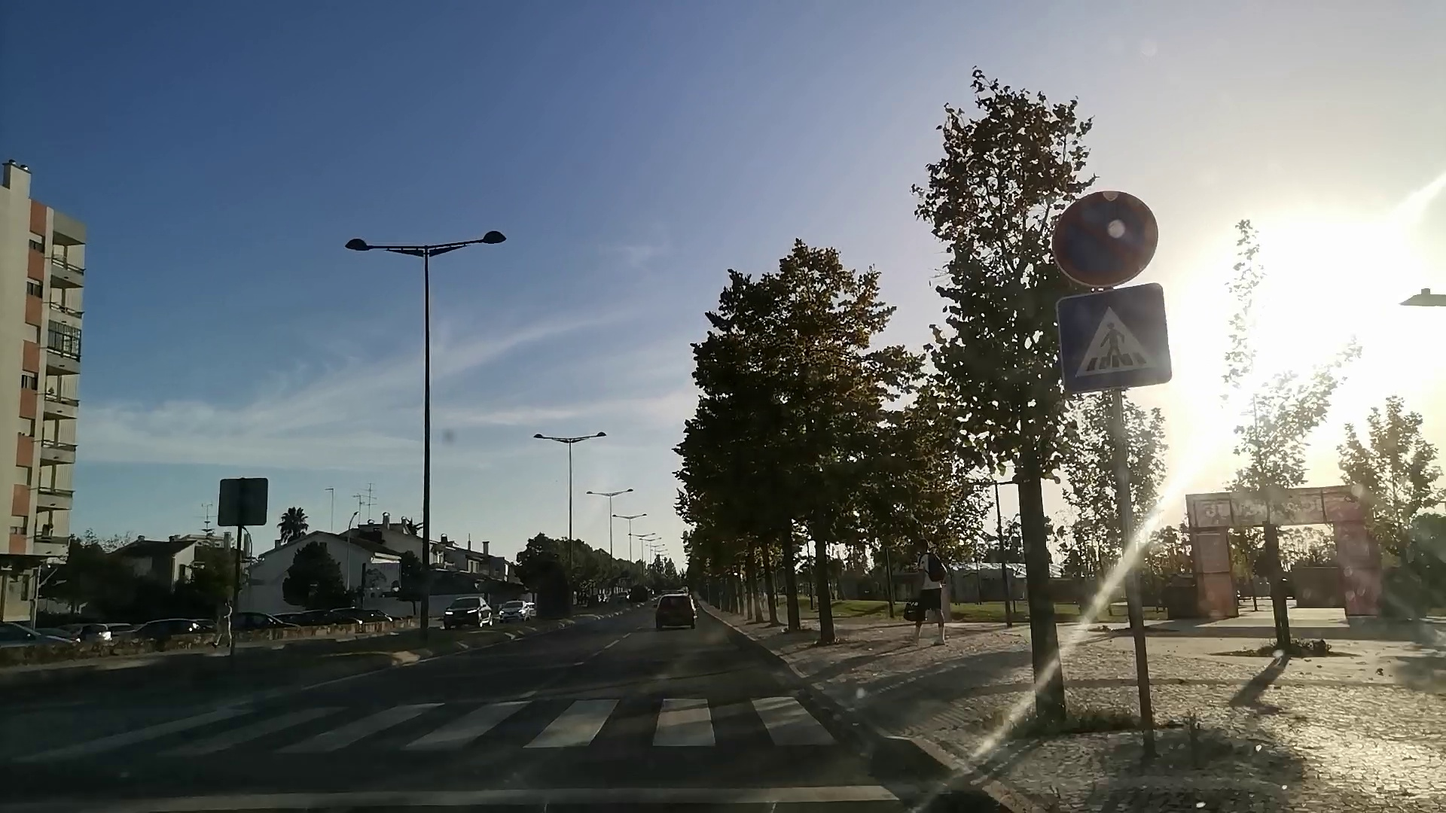Stairs: (178, 694, 851, 785)
